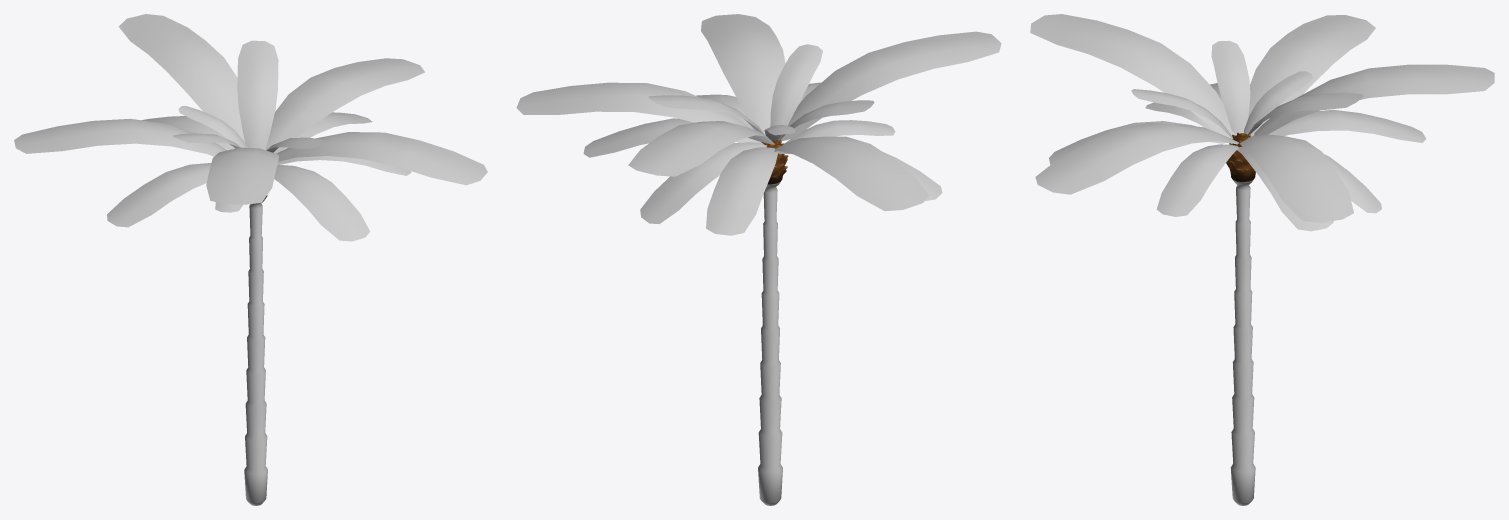
Rendered from Palm02.fbx.
3 views of the same model, side by side, from view 1: azimuth 30°, elevation 25°; view 2: azimuth 150°, elevation 25°; view 3: azimuth 270°, elevation 25° (orthographic). The views are drawn at different scales.
Visible parts, largest first — view 1: Palm02; view 2: Palm02; view 3: Palm02.
Boxes of the visible parts, <box> form: Palm02: <box>14,14,487,505</box>; Palm02: <box>516,14,1001,505</box>; Palm02: <box>1030,14,1494,505</box>.
Size of the model in its own units: 606 by 604 by 585.
